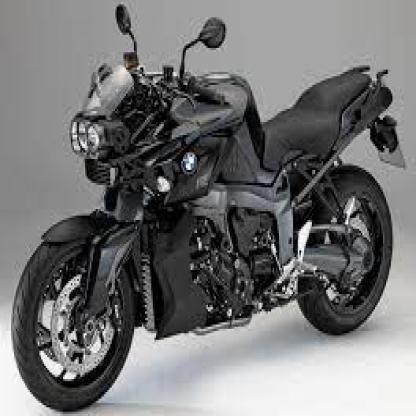bike: (9, 2, 406, 412)
